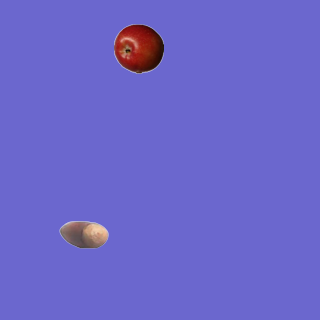Apple Braeburn: (113, 23, 163, 73)
Hazelnut: (58, 209, 108, 259)
